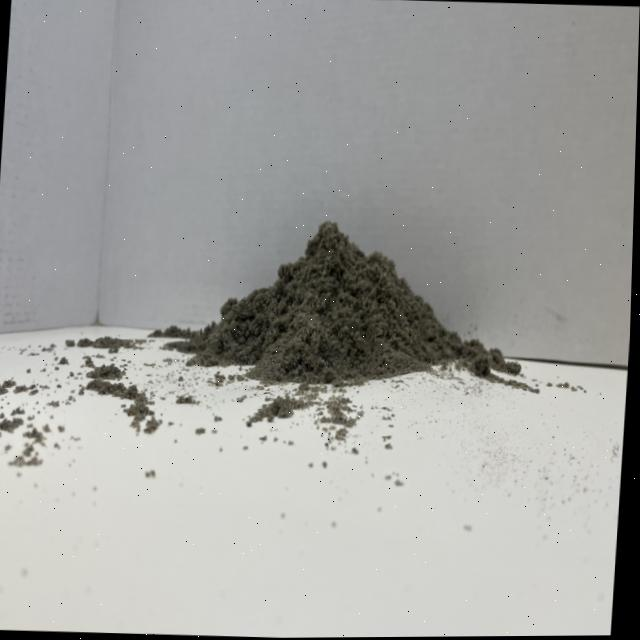sand: (204, 200, 484, 420)
